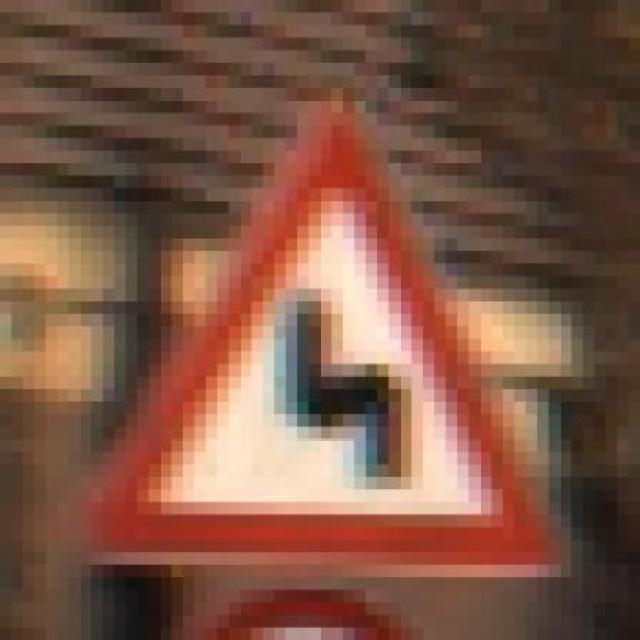Left Zig Zag Traffic: (80, 62, 583, 602)
